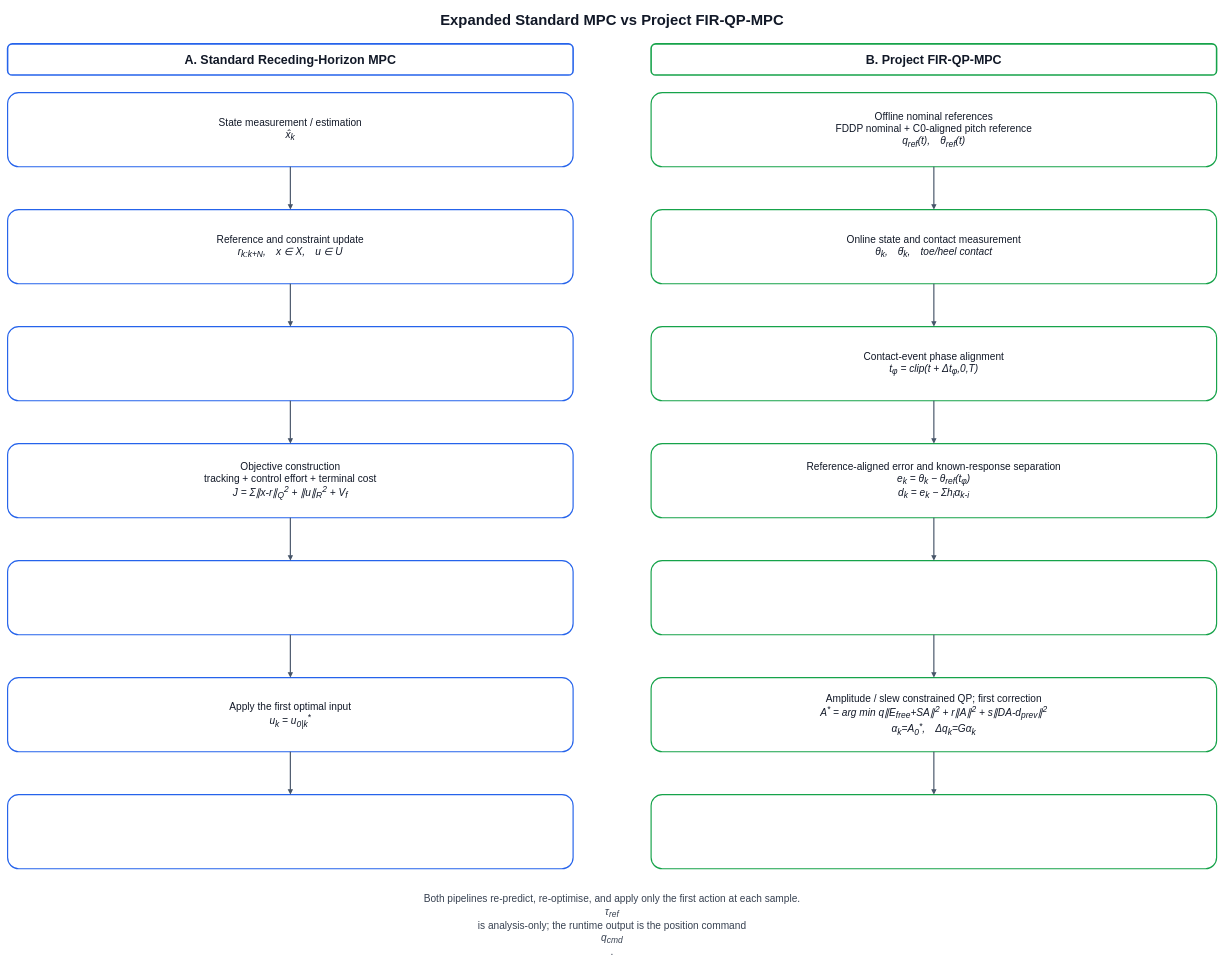
The diagram is 1224 pixels wide and 964 high, and some of its shapes have lost their labels. Each missing label, with the centre of its shape:
AR natural response + FIR command-response forecast E = E free + SA: (x=933, y=597)
Horizon prediction X = F(x̂ k ,U): (x=290, y=363)
Plant evolution; advance one sample x k+1 = f(x k ,u k ): (x=290, y=831)
Position command and actuator proxy q cmd = q ref (t φ ) + Δq k: (x=933, y=831)
QP / NLP solution U k * = arg min U J(x̂ k ,U): (x=290, y=597)
